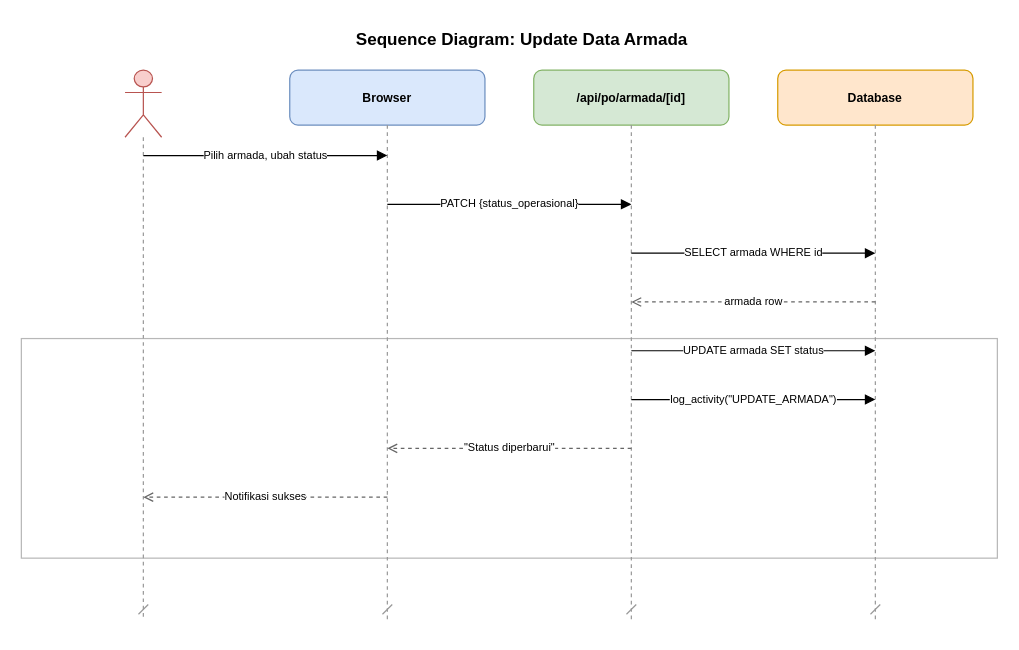
Image size: 1019x650. Some labels were removed from this diagram. Each missing label, with the box of its shape:
alt: Bus tidak beroperasi: (20, 337, 997, 558)
Operator PO: (124, 69, 162, 137)
